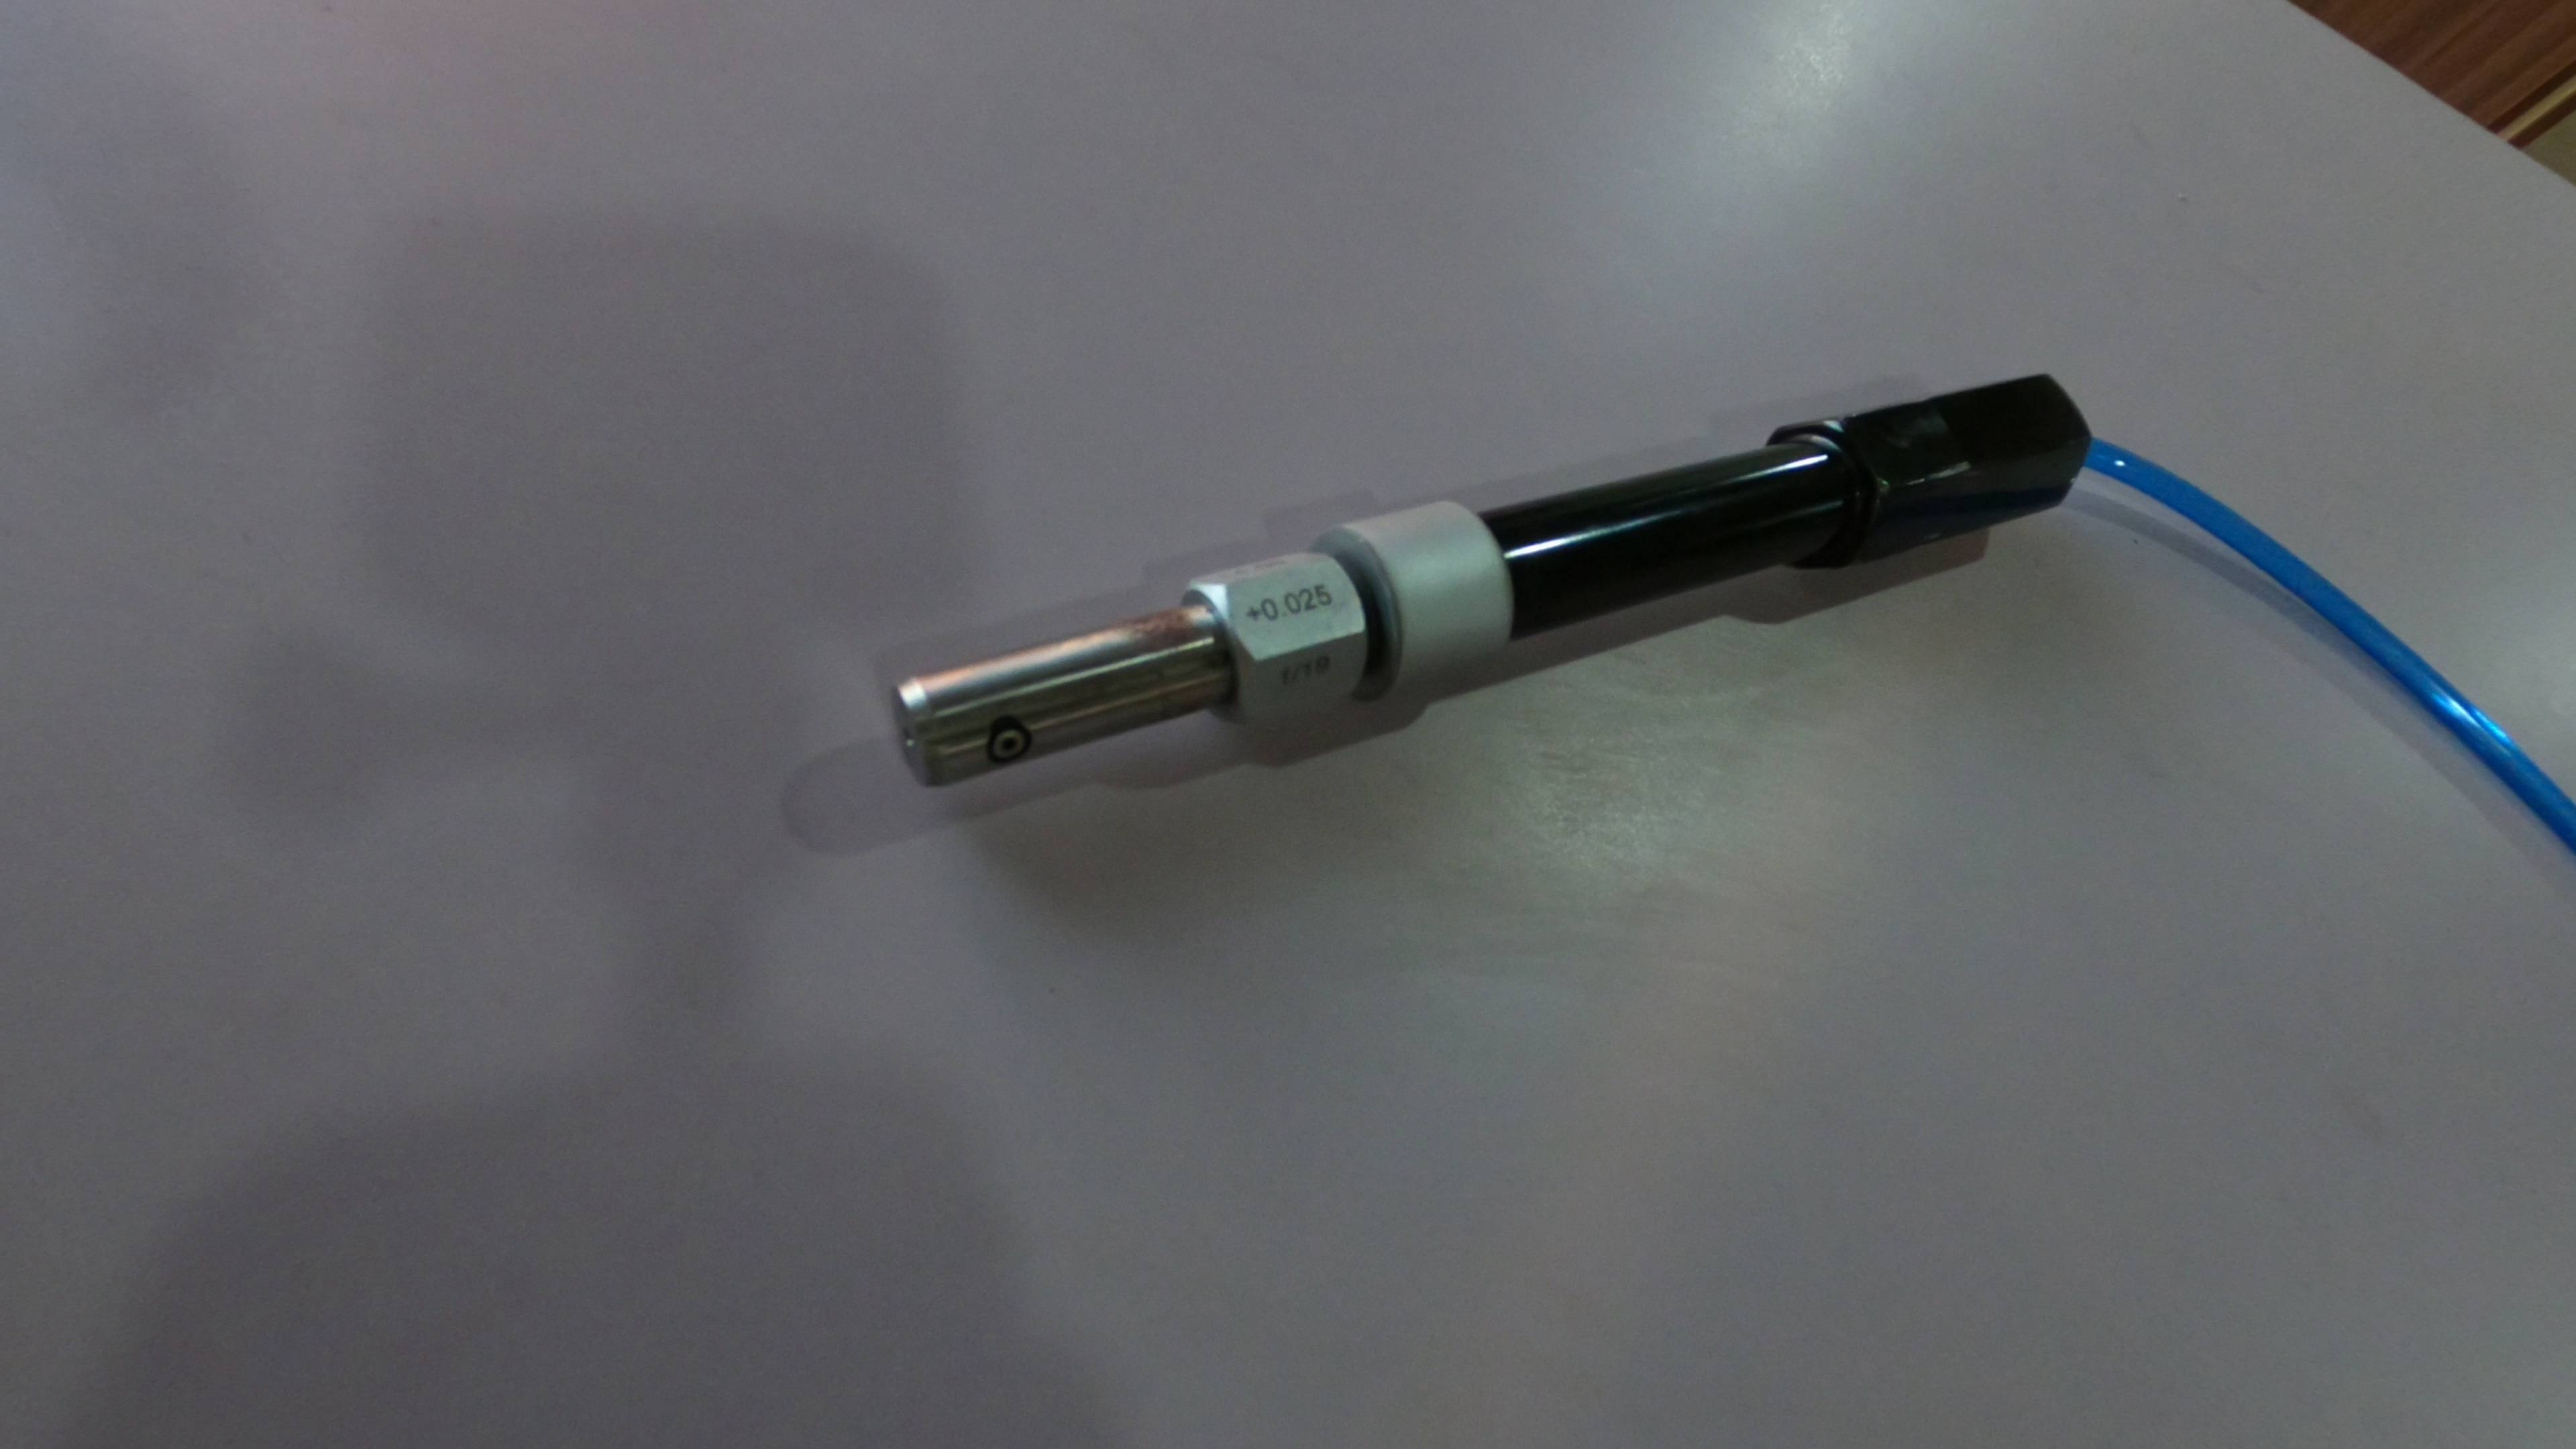air_gauge: (885, 370, 2102, 874)
